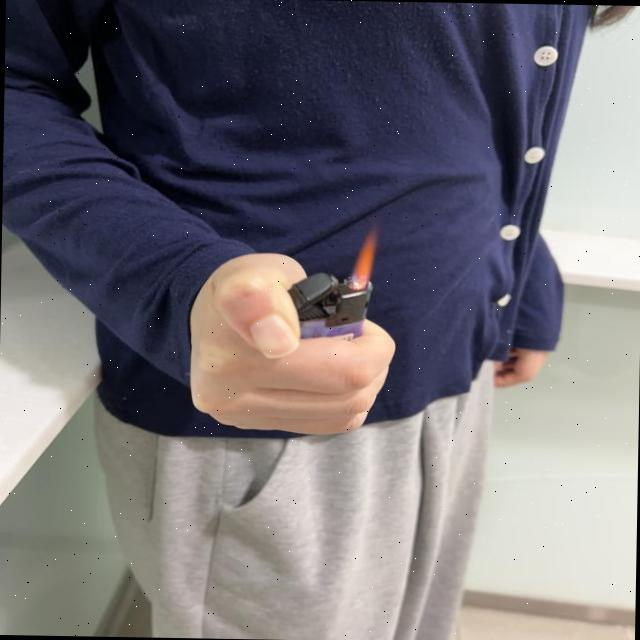fire: (348, 223, 377, 292)
